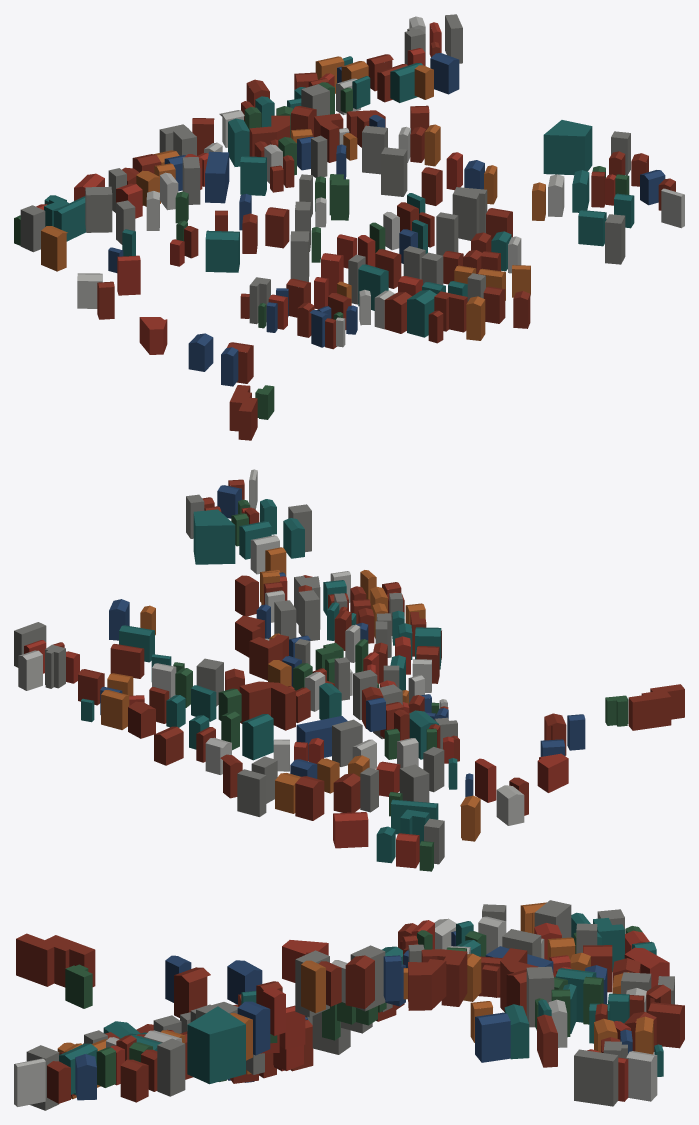
The model's file is near-17-109443-59465.453ca2a4.glb.
The picture shows the model from 3 angles, top to bottom: view 1: azimuth 30°, elevation 25°; view 2: azimuth 150°, elevation 25°; view 3: azimuth 270°, elevation 25°; orthographic projection. The views are drawn at different scales.
Bounding box in the file's own units: 305 × 106 × 307.
